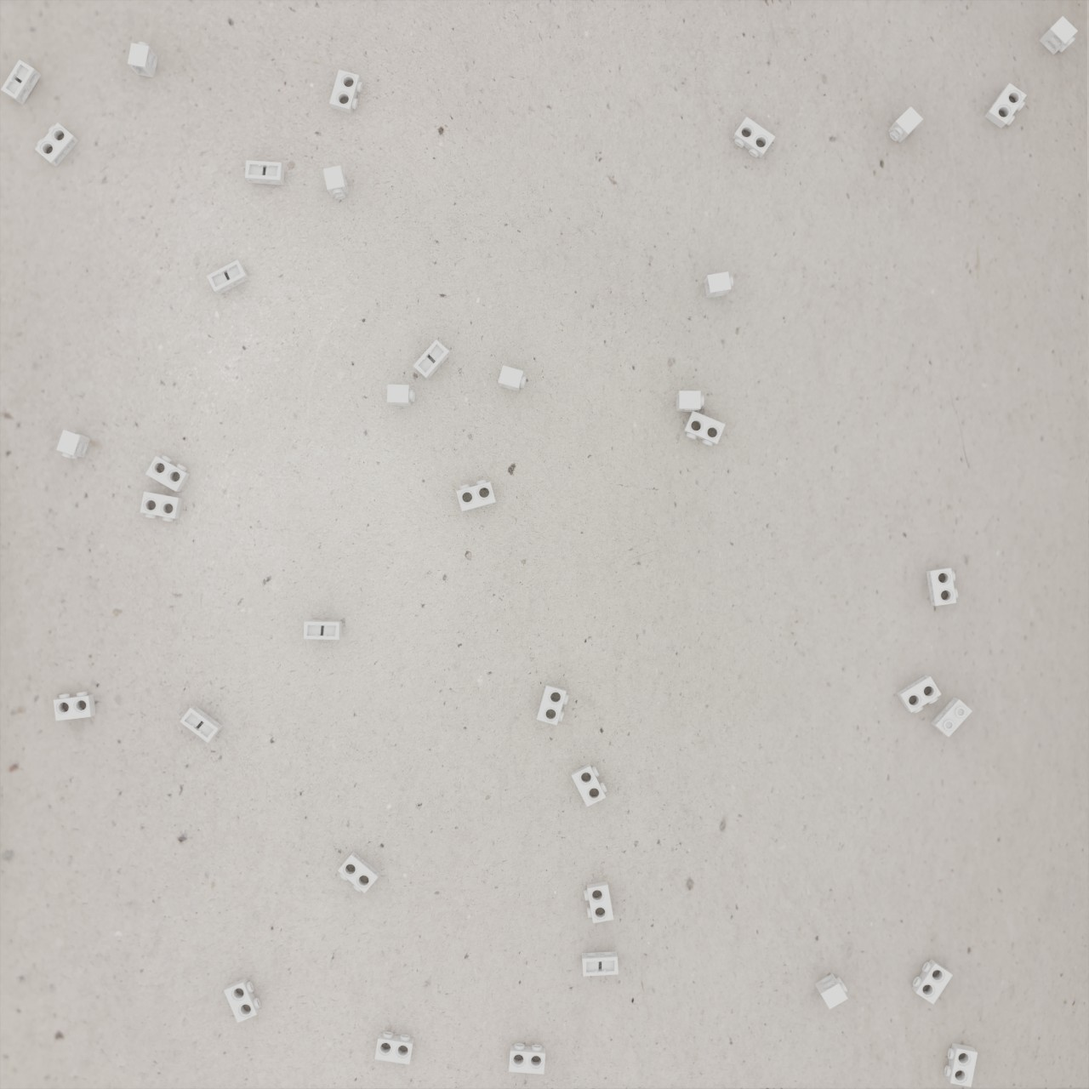lego: (35, 122, 79, 167), (984, 83, 1027, 129), (912, 959, 953, 1005), (732, 116, 776, 158), (1, 59, 41, 105), (338, 851, 380, 893), (896, 675, 942, 713), (224, 977, 261, 1023), (145, 455, 191, 492), (930, 697, 972, 737), (180, 705, 223, 743), (206, 259, 250, 295), (413, 339, 451, 380), (571, 764, 607, 807), (329, 69, 363, 114), (1039, 16, 1078, 55), (683, 411, 726, 446), (944, 1043, 978, 1087), (140, 491, 183, 522), (375, 1031, 414, 1065), (456, 479, 496, 512), (537, 684, 569, 725), (888, 106, 923, 143), (584, 881, 614, 923), (53, 692, 96, 721), (814, 973, 848, 1009), (926, 568, 958, 606), (509, 1043, 545, 1075), (127, 42, 158, 78), (56, 430, 91, 460), (245, 160, 285, 185), (582, 951, 619, 977), (323, 165, 349, 199), (704, 272, 734, 299), (304, 620, 342, 640), (498, 365, 526, 392), (387, 384, 415, 406), (676, 391, 704, 412)
